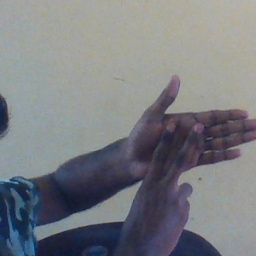N: (121, 70, 256, 223)
